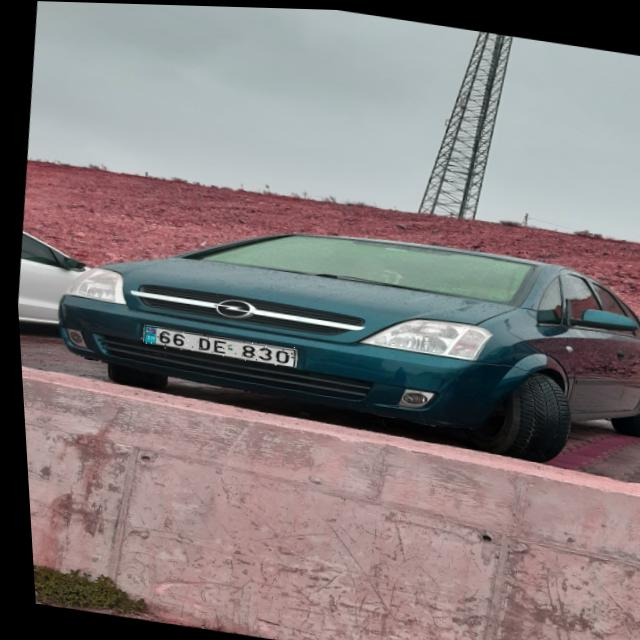license_plate: (135, 323, 292, 366)
